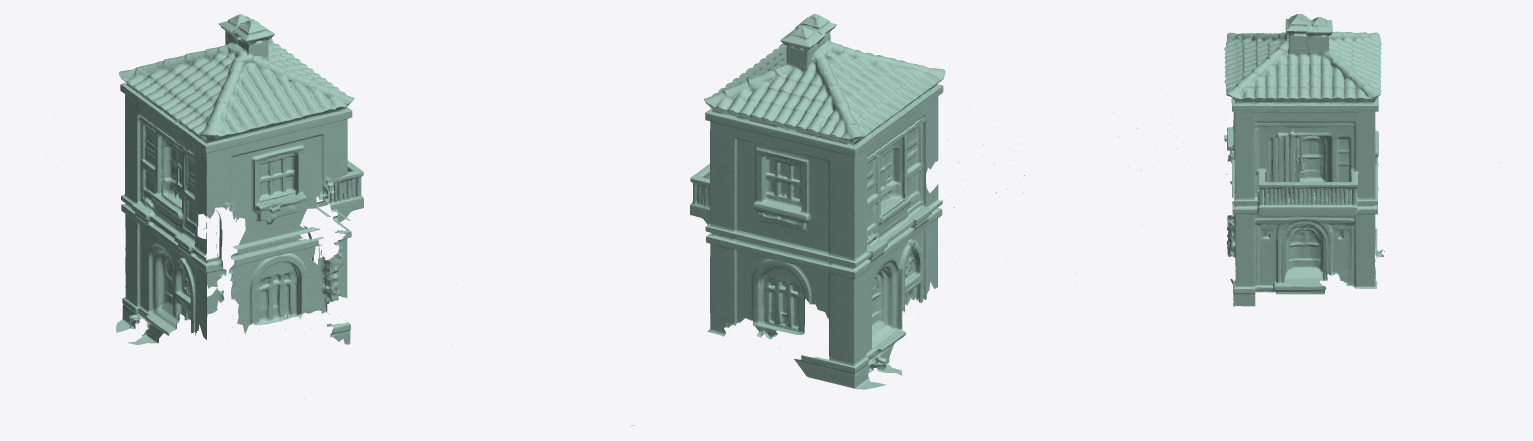
The model's file is european-block-09-building-0.glb.
3 views of the same model, side by side, from view 1: azimuth 30°, elevation 25°; view 2: azimuth 150°, elevation 25°; view 3: azimuth 270°, elevation 25° (orthographic). The views are drawn at different scales.
Visible parts, largest first — view 1: building_0; view 2: building_0; view 3: building_0.
Part boxes in pixels (left/top/right/bottom): building_0: left=44, top=14, right=634, bottom=426; building_0: left=680, top=14, right=1024, bottom=389; building_0: left=1075, top=14, right=1518, bottom=313.
Bounding box in the file's own units: 0.8395 × 0.8071 × 1.08.
